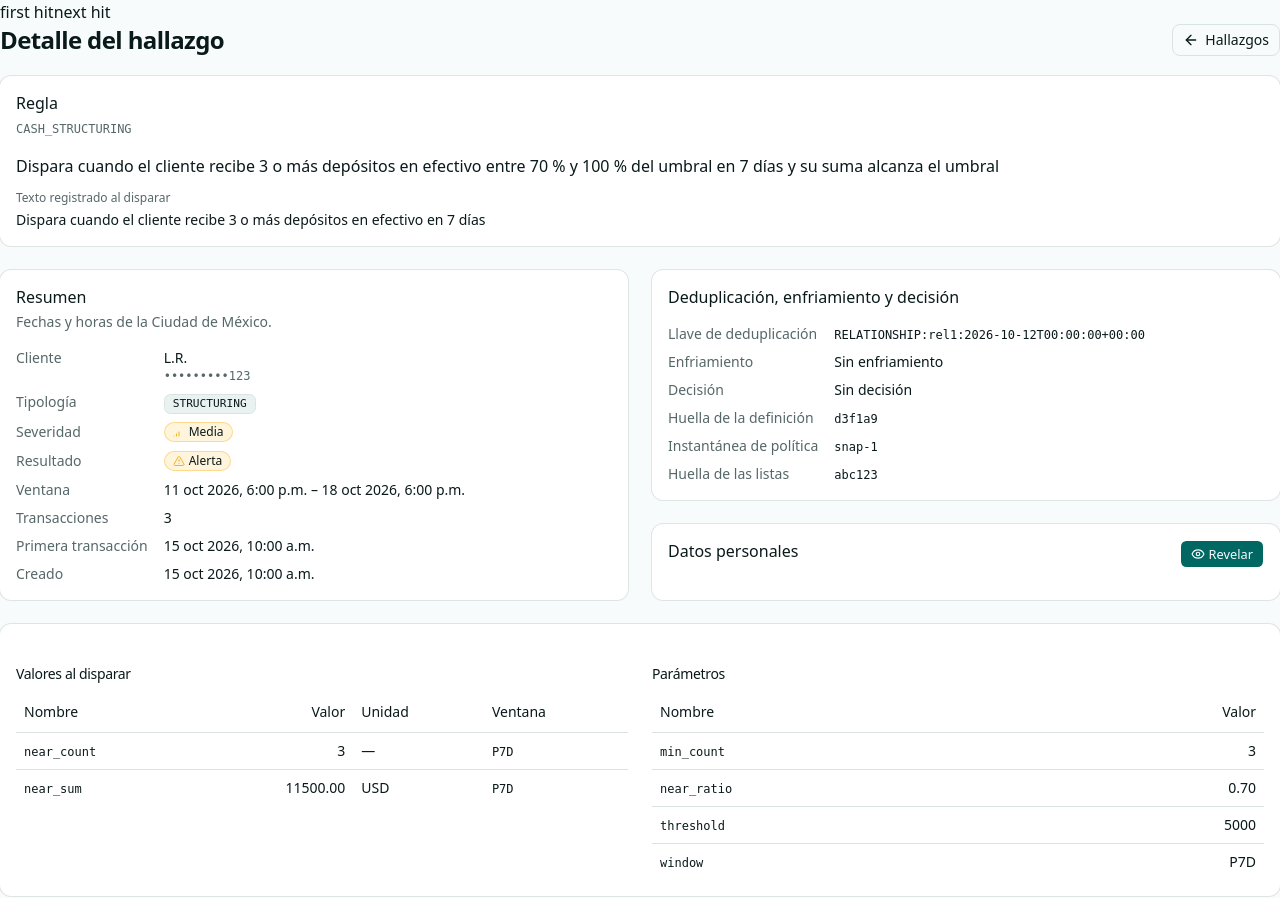
Scenario: HitPage › the reveal is a mutation and is forgotten on hide
Check: the text "Dispara cuando el cliente recibe 3 o más depósitos en efectivo entre 70 % y 100 % del umbral en 7 días y su suma alcanza" is shown, box [16,155,999,177]
Click the button "Revelar": (1222, 554) [1180,540,1264,568]
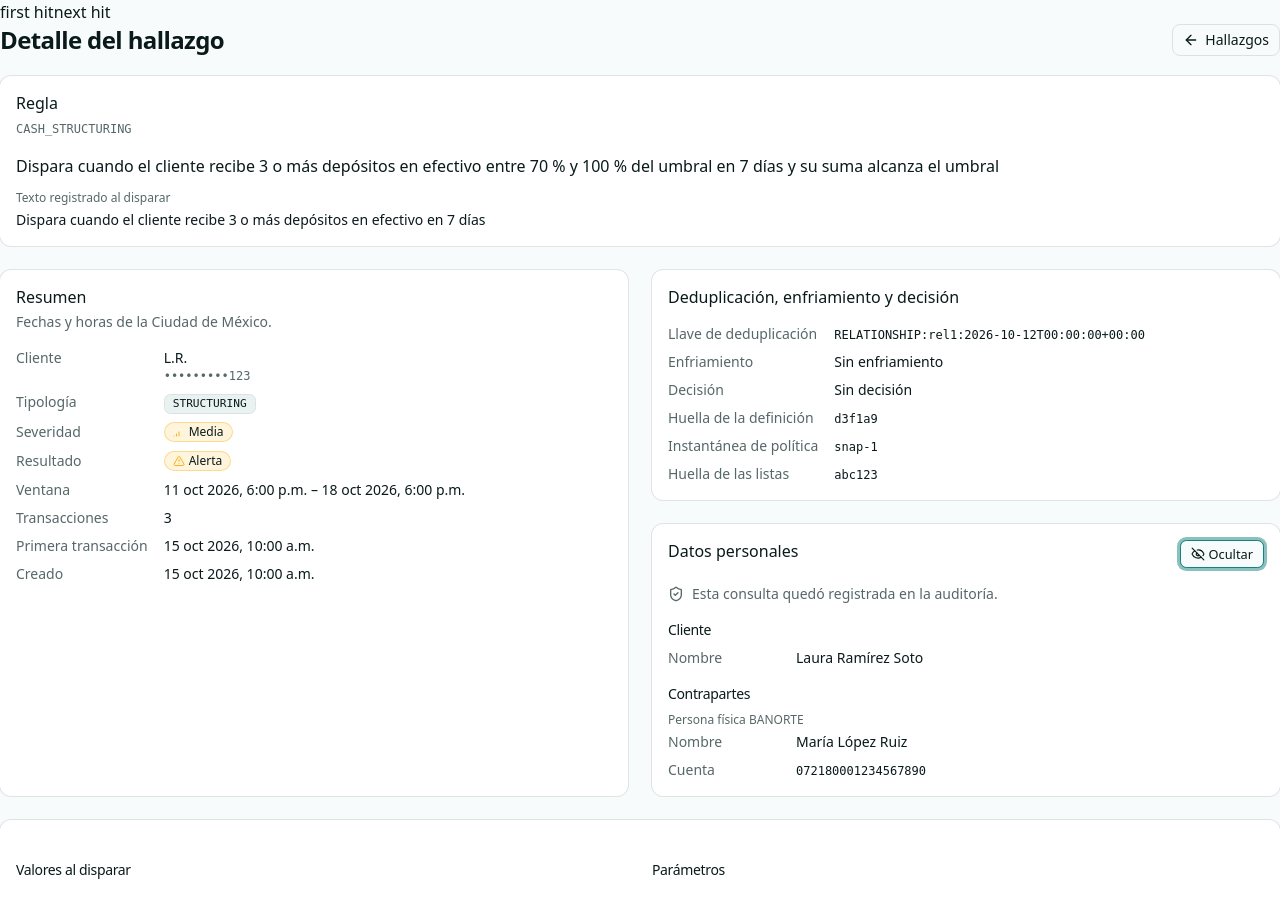
Check: the text "María López Ruiz" is shown, box [796,732,907,751]
Check: the text "Laura Ramírez Soto" is shown, box [796,648,923,667]
Check: the text "072180001234567890" is shown, box [796,764,926,778]
Click the button "Ocultar": (1222, 554) [1180,540,1264,568]
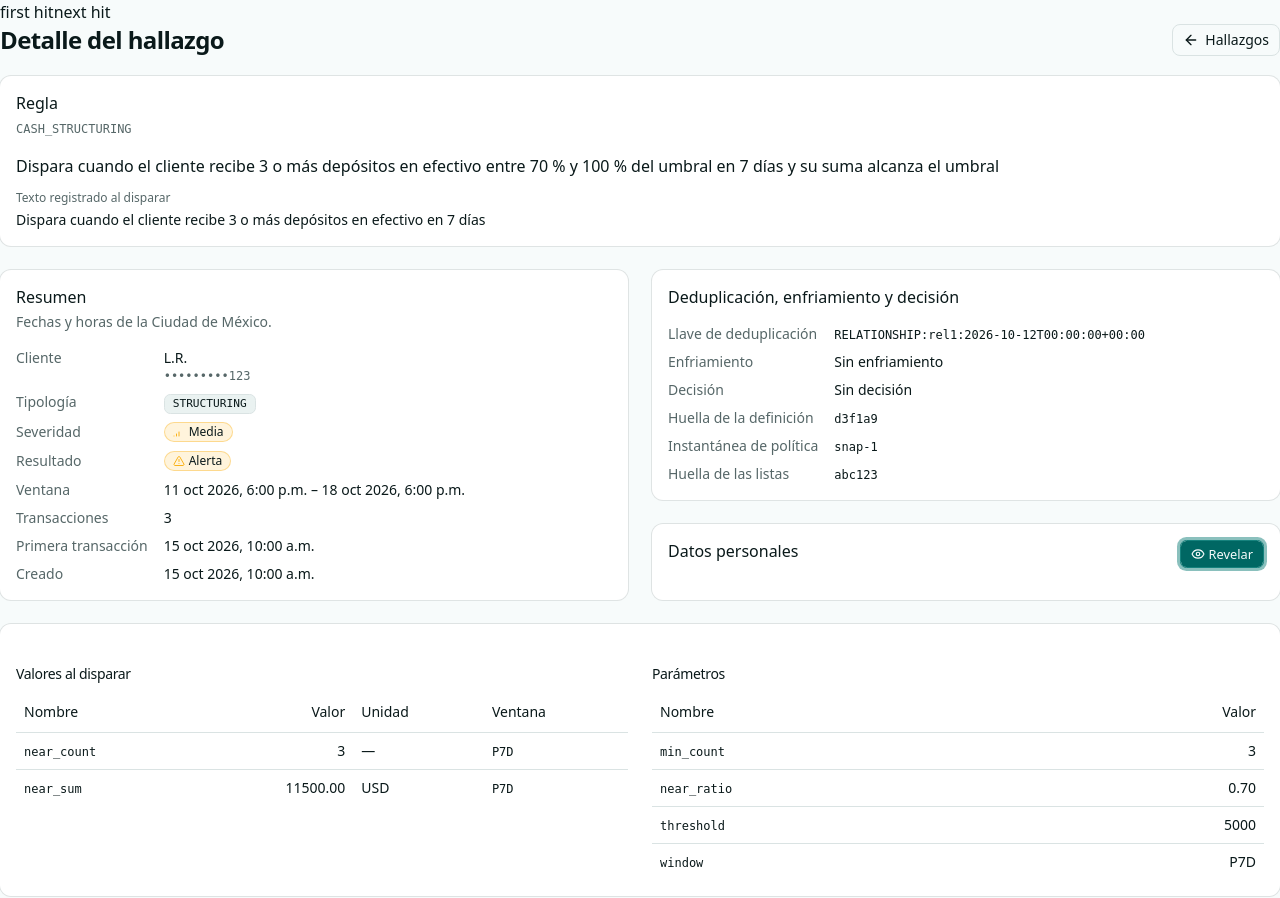
Check: the text "María López Ruiz" is gone
Check: the text "Laura" is gone
